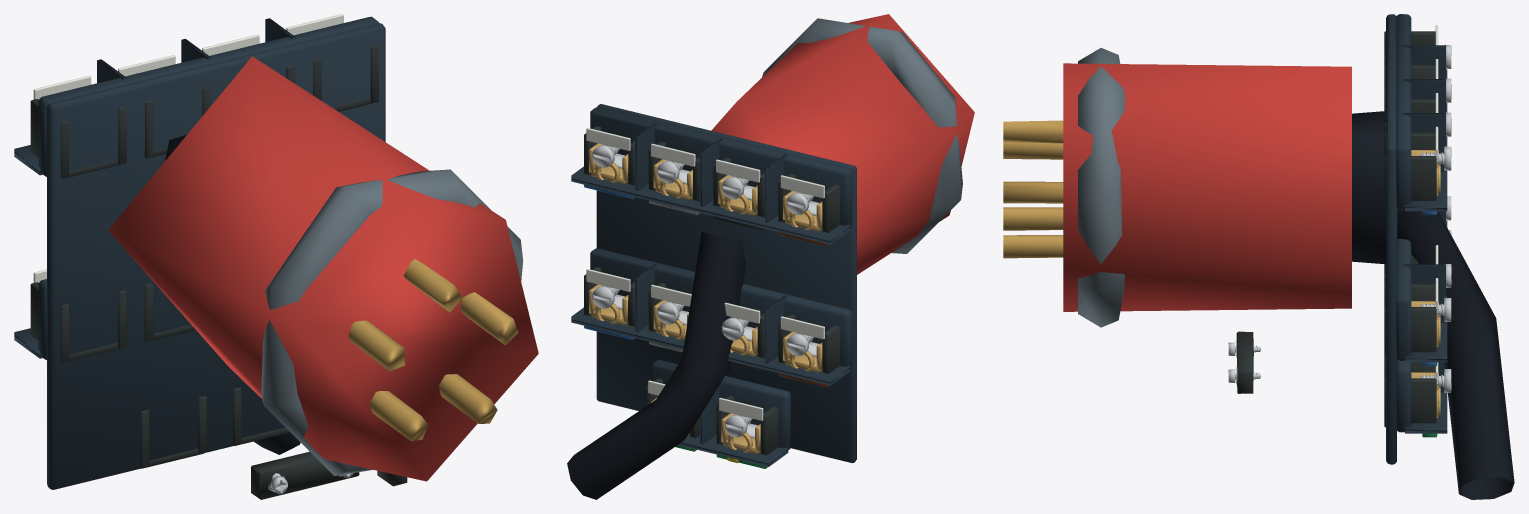
The model's file is plug3_default.low.glb.
The picture shows the model from 3 angles, left to right: view 1: azimuth 30°, elevation 25°; view 2: azimuth 150°, elevation 25°; view 3: azimuth 270°, elevation 25°; orthographic projection. The views are drawn at different scales.
Parts seen in each view (by area): view 1: part:body, part:terminals · Original a463fd81, part:body.001 · Original df732090, Cord grip bridge, detail:terminal-clamp:L1OUT · Detail moulded engineering pol, detail:terminal-clamp:L1IN · Detail moulded engineering poly, detail:terminal-clamp:PE · Detail moulded engineering polyme, detail:terminal-clamp:NIN · Detail moulded engineering polym, detail:terminal-clamp:PEOUT · Detail moulded engineering pol, detail:terminal-clamp:L2IN · Detail moulded engineering poly, detail:terminal-clamp:L2OUT · Detail moulded engineering pol, Moulded terminal legend pad (+3 smaller); view 2: part:terminals · Original a463fd81, part:body, part:sheath, detail:terminal-clamp:PE · Detail moulded engineering polyme, detail:terminal-clamp:L1OUT · Detail moulded engineering pol, detail:terminal-clamp:L1IN · Detail moulded engineering poly, detail:terminal-clamp:L2IN · Detail moulded engineering poly, detail:terminal-clamp:L1IN · Detail machined brass, detail:terminal-clamp:L1OUT · Detail machined brass, detail:terminal-clamp:L3IN · Detail machined brass, detail:terminal-clamp:NIN · Detail machined brass, detail:terminal-clamp:PE · Detail machined brass (+26 smaller); view 3: part:body, part:terminals · Original a463fd81, part:sheath, part:body.001 · Original df732090, detail:terminal-clamp:NIN · Detail moulded engineering polym, detail:terminal-clamp:NOUT · Detail moulded engineering poly, detail:terminal-clamp:PEOUT · Detail moulded engineering pol, Cord grip bridge.
Boxes of the visible parts, left/top/right/bottom form: part:body: left=108, top=56, right=538, bottom=481; part:terminals · Original a463fd81: left=14, top=16, right=385, bottom=489; part:body.001 · Original df732090: left=348, top=258, right=518, bottom=441; Cord grip bridge: left=250, top=451, right=359, bottom=499; detail:terminal-clamp:L1OUT · Detail moulded engineering pol: left=30, top=282, right=126, bottom=362; detail:terminal-clamp:L1IN · Detail moulded engineering poly: left=30, top=99, right=126, bottom=178; detail:terminal-clamp:PE · Detail moulded engineering polyme: left=140, top=396, right=206, bottom=468; detail:terminal-clamp:NIN · Detail moulded engineering polym: left=313, top=45, right=378, bottom=111; detail:terminal-clamp:PEOUT · Detail moulded engineering pol: left=233, top=387, right=290, bottom=445; detail:terminal-clamp:L2IN · Detail moulded engineering poly: left=144, top=86, right=210, bottom=158; detail:terminal-clamp:L2OUT · Detail moulded engineering pol: left=144, top=283, right=195, bottom=341; Moulded terminal legend pad: left=33, top=75, right=91, bottom=99; part:terminals · Original a463fd81: left=571, top=104, right=856, bottom=466; part:body: left=711, top=14, right=974, bottom=274; part:sheath: left=567, top=231, right=745, bottom=499; detail:terminal-clamp:PE · Detail moulded engineering polyme: left=716, top=395, right=778, bottom=455; detail:terminal-clamp:L1OUT · Detail moulded engineering pol: left=778, top=314, right=839, bottom=374; detail:terminal-clamp:L1IN · Detail moulded engineering poly: left=778, top=173, right=839, bottom=233; detail:terminal-clamp:L2IN · Detail moulded engineering poly: left=713, top=157, right=764, bottom=230; detail:terminal-clamp:L1IN · Detail machined brass: left=783, top=191, right=822, bottom=231; detail:terminal-clamp:L1OUT · Detail machined brass: left=783, top=332, right=822, bottom=372; detail:terminal-clamp:L3IN · Detail machined brass: left=653, top=159, right=692, bottom=199; detail:terminal-clamp:NIN · Detail machined brass: left=589, top=143, right=628, bottom=183; detail:terminal-clamp:PE · Detail machined brass: left=721, top=413, right=760, bottom=453; part:body: left=1063, top=48, right=1386, bottom=327; part:terminals · Original a463fd81: left=1386, top=14, right=1447, bottom=464; part:sheath: left=1397, top=209, right=1514, bottom=499; part:body.001 · Original df732090: left=1003, top=120, right=1063, bottom=258; detail:terminal-clamp:NIN · Detail moulded engineering polym: left=1384, top=132, right=1437, bottom=204; detail:terminal-clamp:NOUT · Detail moulded engineering poly: left=1384, top=284, right=1437, bottom=355; detail:terminal-clamp:PEOUT · Detail moulded engineering pol: left=1384, top=356, right=1437, bottom=427; Cord grip bridge: left=1236, top=331, right=1253, bottom=393.
Size of the model in its own units: 0.68 by 0.9213 by 1.08.
